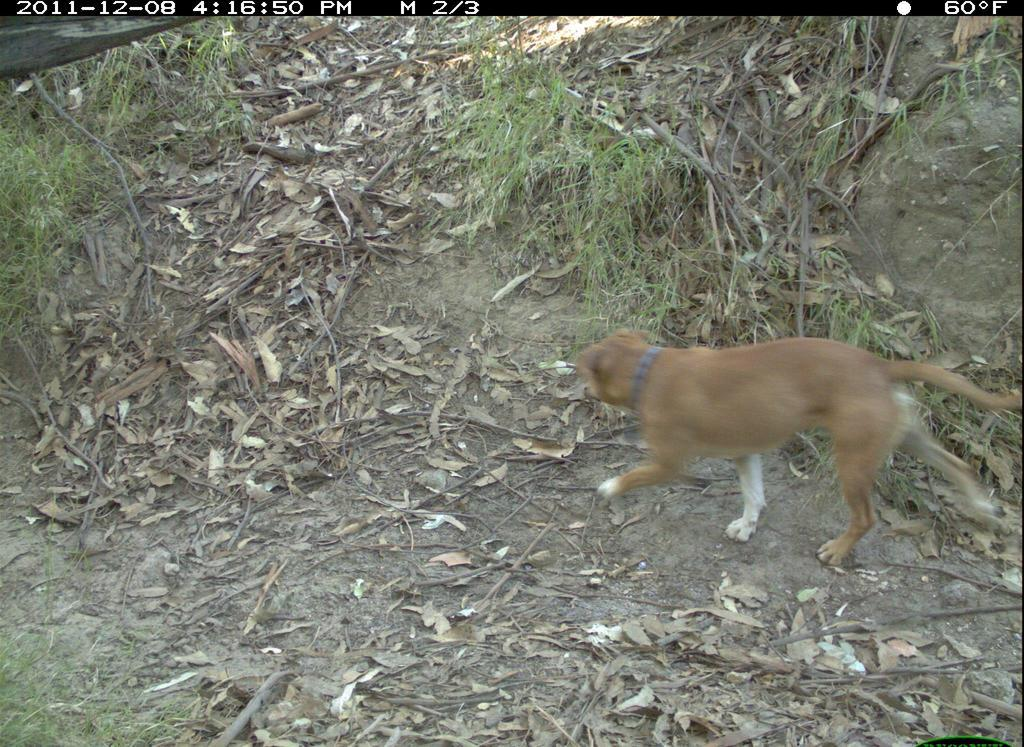dog: (574, 317, 1023, 577)
